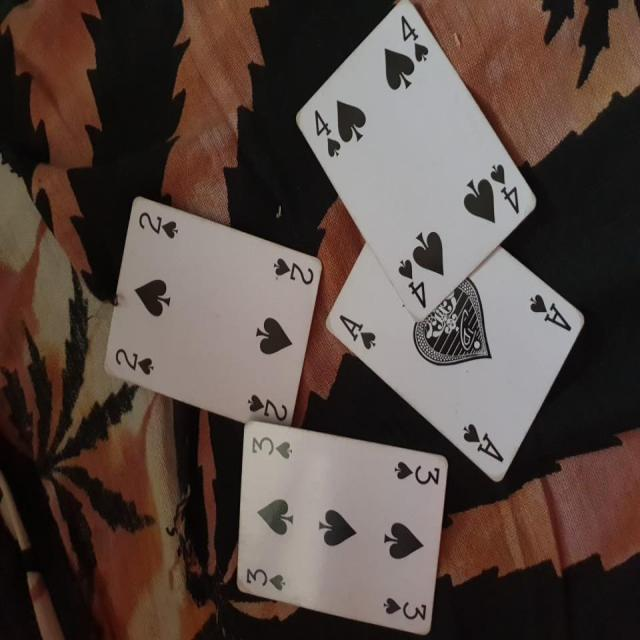2 Spades: (101, 196, 325, 439)
3 Spades: (235, 418, 449, 638)
4 Spades: (297, 3, 544, 326)
A Spades: (322, 222, 599, 486)
